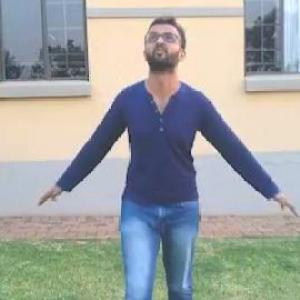land: (38, 10, 299, 299)
